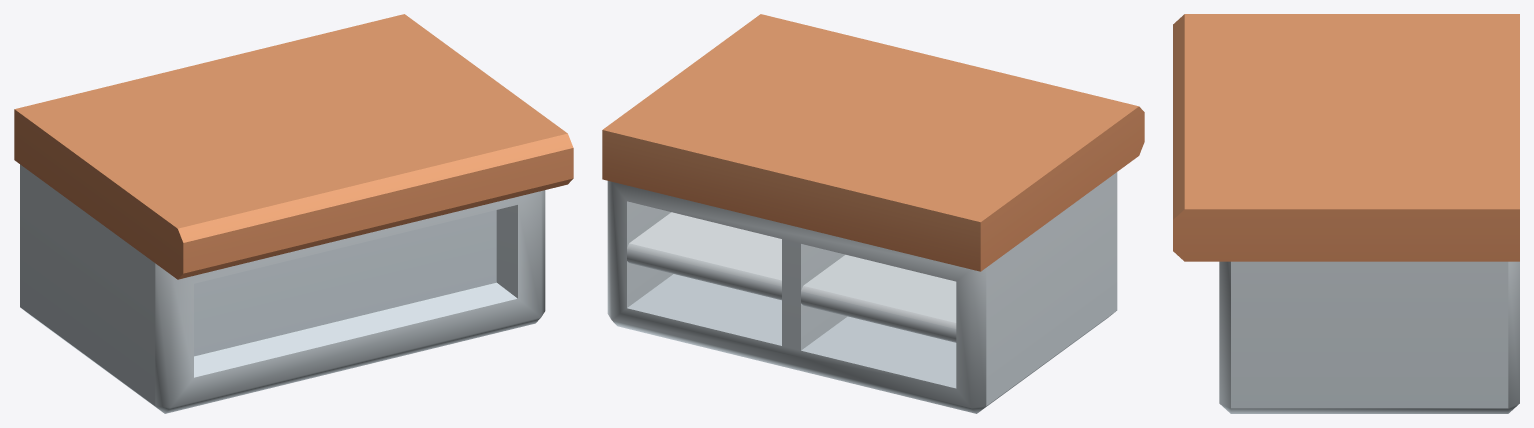
Rendered from countertop-straight-a-large.glb.
The picture shows the model from 3 angles, left to right: view 1: azimuth 30°, elevation 25°; view 2: azimuth 150°, elevation 25°; view 3: azimuth 270°, elevation 25°; orthographic projection. The views are drawn at different scales.
Visible parts, largest first — view 1: countertop_straight_A_large; view 2: countertop_straight_A_large; view 3: countertop_straight_A_large.
Boxes of the visible parts, x1,y1,x2,y2 form: countertop_straight_A_large: (14,14,573,413); countertop_straight_A_large: (602,14,1144,413); countertop_straight_A_large: (1173,14,1519,413).
Bounding box in the file's own units: 2 × 1 × 1.5.
Materials: 1 (1 with a texture image).
